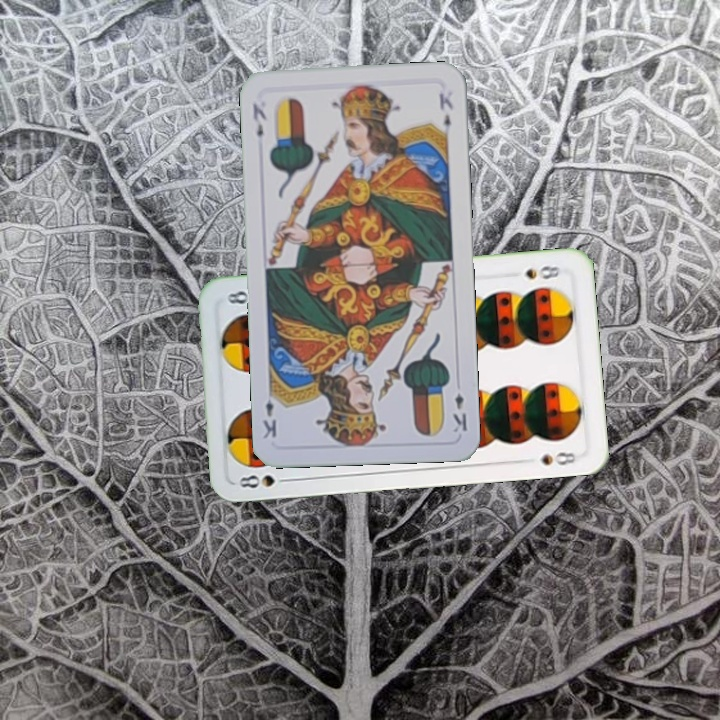EK: (449, 389, 470, 435), (248, 99, 269, 140)
S8: (235, 471, 294, 492), (521, 261, 563, 282)
